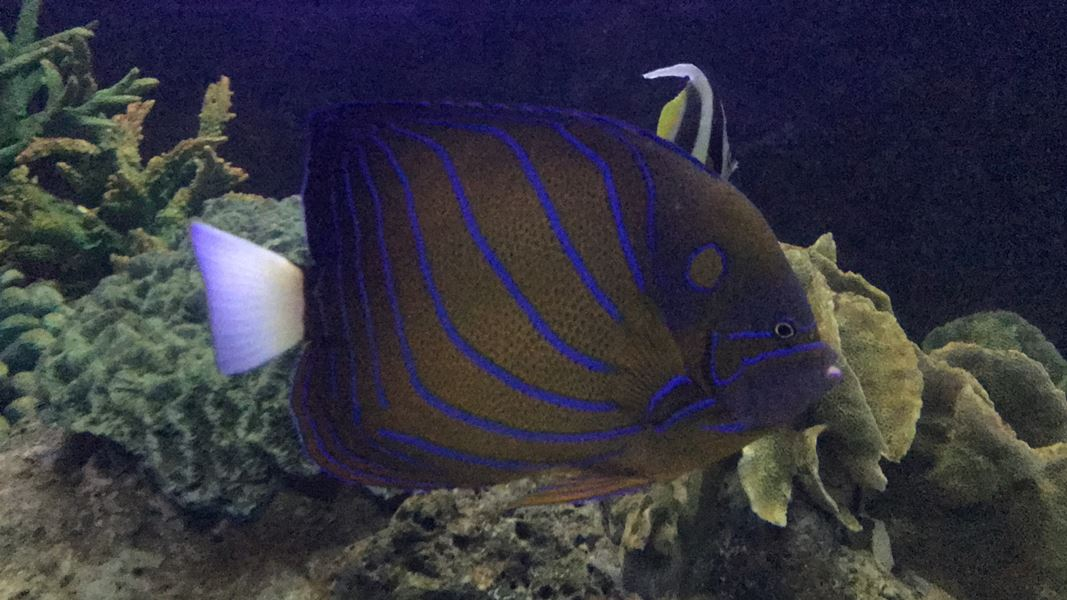Blue ring angelfish: (159, 74, 850, 540)
